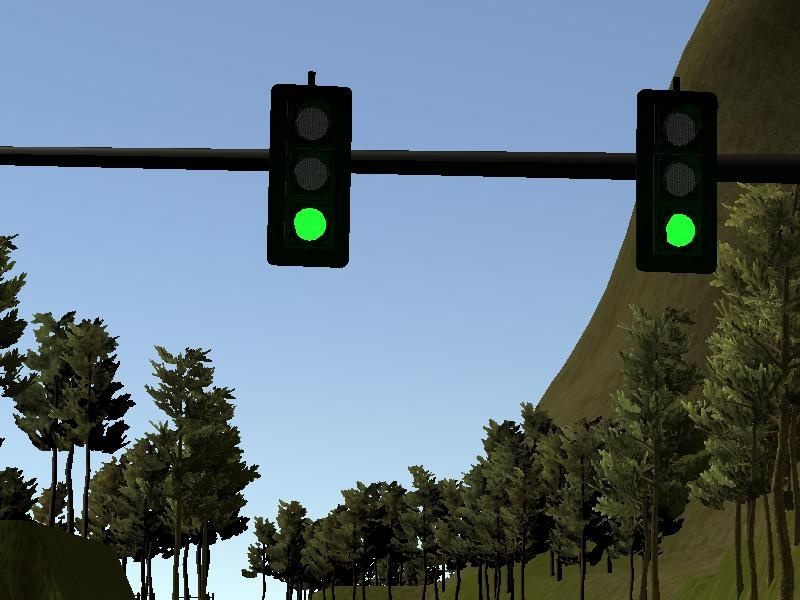green: (257, 68, 359, 276), (641, 77, 719, 277)
